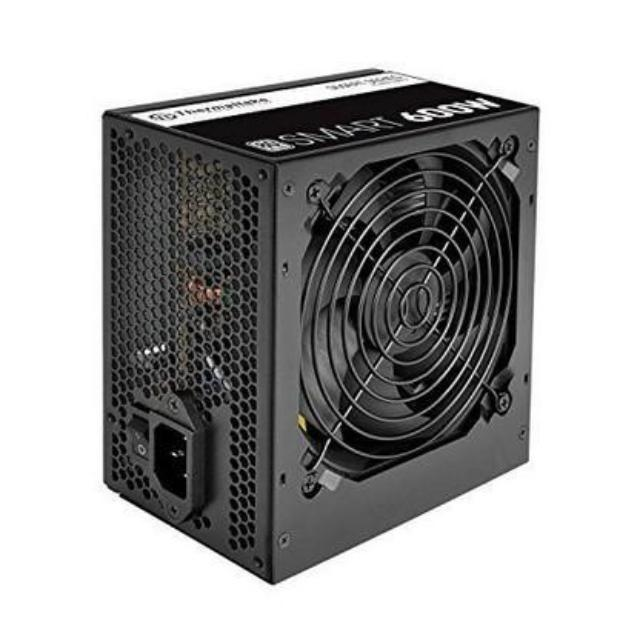PSU: (76, 67, 544, 599)
